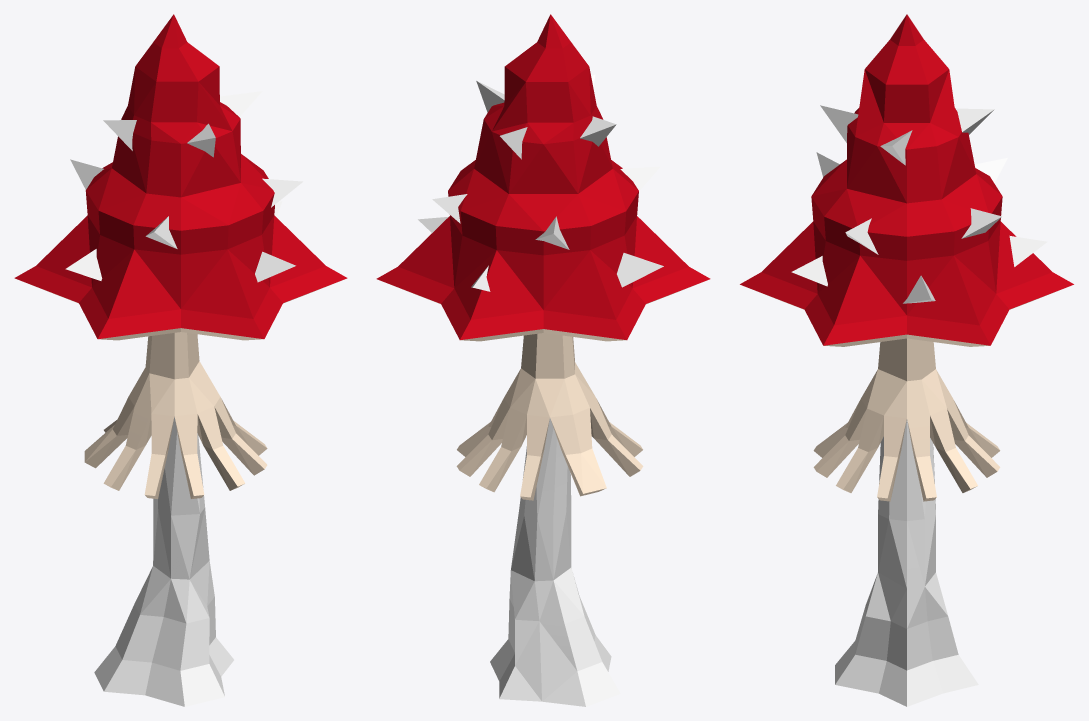
The model's file is AttackMashroom3.fbx.
3 views of the same model, side by side, from view 1: azimuth 30°, elevation 25°; view 2: azimuth 150°, elevation 25°; view 3: azimuth 270°, elevation 25° (orthographic).
Visible parts, largest first — view 1: AttackMashroom3; view 2: AttackMashroom3; view 3: AttackMashroom3.
Boxes of the visible parts, x1,y1,x2,y2 form: AttackMashroom3: [14, 14, 347, 706]; AttackMashroom3: [376, 14, 710, 706]; AttackMashroom3: [740, 14, 1073, 706].
Size of the model in its own units: 43.87 by 111 by 50.66.
